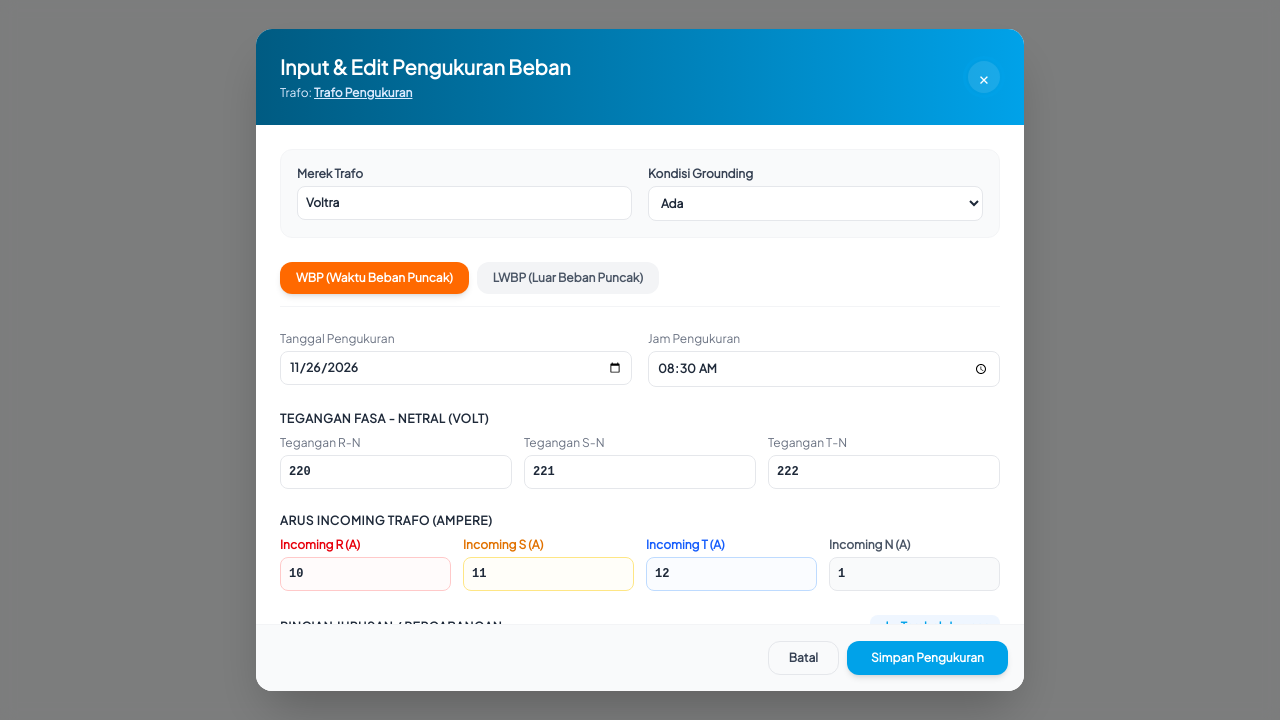
it: Kontrak pengukuran trafo frontend › menjaga modal terbuka dan melaporkan penyimpanan sebagian jika metadata berhasil tetapi pengukuran gagal
Replace the text in the field labelled "Merek Trafo" with "Sintra" at (464, 203), box x1=297 y1=186 x2=632 y2=220
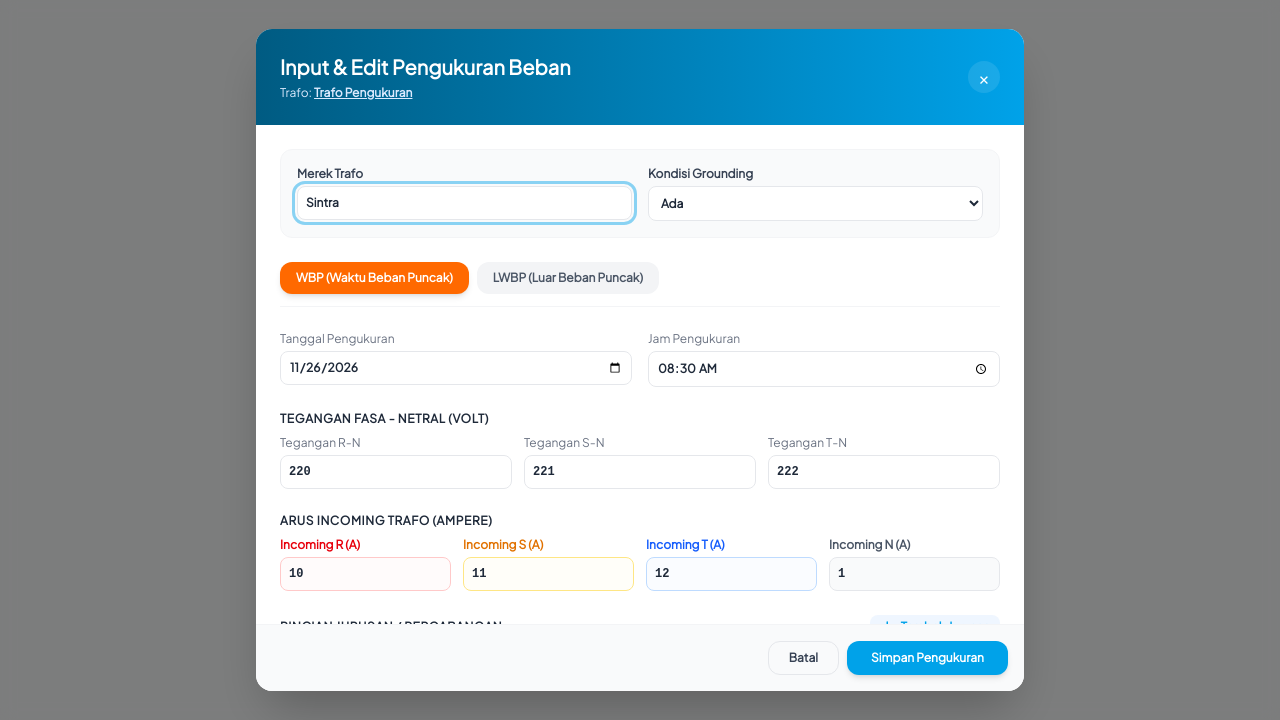
Click the button "Simpan Pengukuran" at (928, 658), box x1=847 y1=641 x2=1008 y2=675
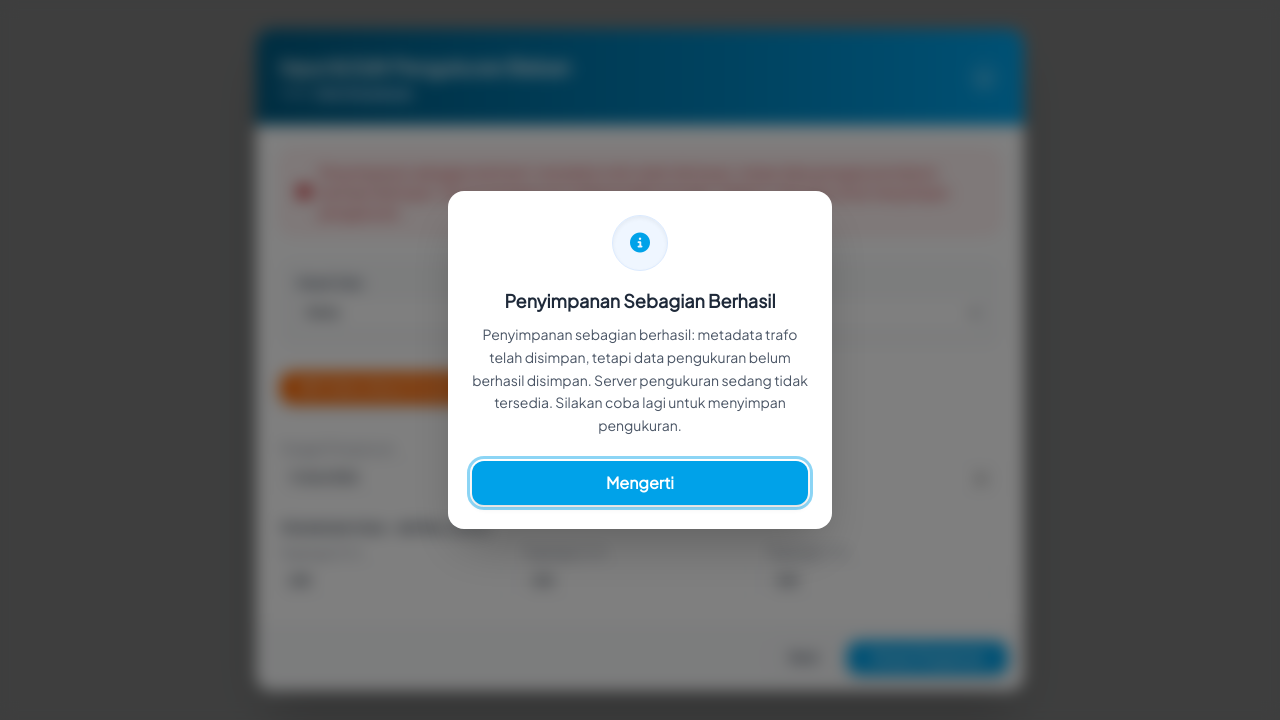
Check: the message shows "Penyimpanan sebagian berhasil", box x1=319 y1=163 x2=949 y2=221
Check: the message shows "metadata trafo telah disimpan", box x1=319 y1=163 x2=949 y2=221
Check: the message shows "data pengukuran belum berhasil disimpan", box x1=319 y1=163 x2=949 y2=221
